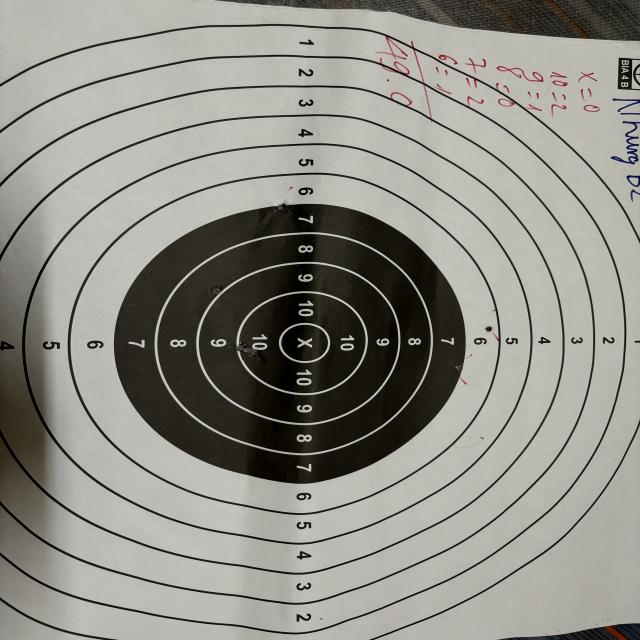bullet: (208, 286, 223, 297), (244, 344, 256, 356), (454, 363, 463, 373), (232, 344, 244, 351), (484, 324, 492, 332), (280, 204, 288, 212)
target: (4, 8, 636, 640)
